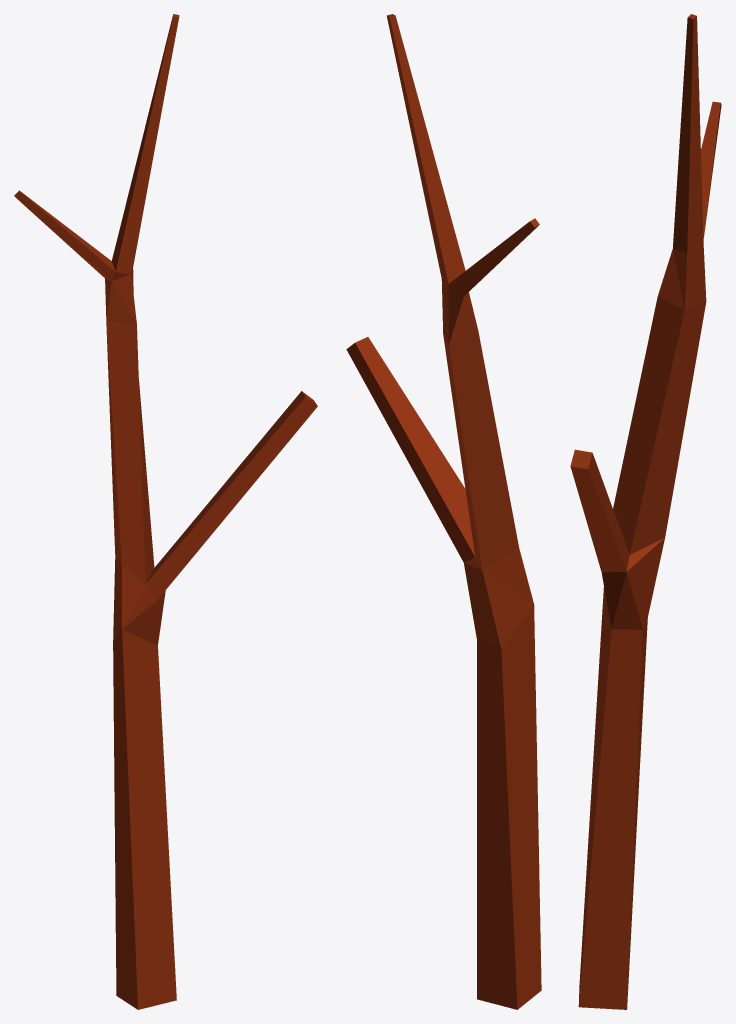
Rendered from branch.obj.
3 views of the same model, side by side, from view 1: azimuth 30°, elevation 25°; view 2: azimuth 150°, elevation 25°; view 3: azimuth 270°, elevation 25° (orthographic). The views are drawn at different scales.
Parts seen in each view (by area): view 1: Tree_Branch_Cube.252; view 2: Tree_Branch_Cube.252; view 3: Tree_Branch_Cube.252.
Boxes of the visible parts, x1,y1,x2,y2 form: Tree_Branch_Cube.252: (14, 14, 317, 1009); Tree_Branch_Cube.252: (346, 14, 541, 1009); Tree_Branch_Cube.252: (570, 14, 721, 1009).
Bounding box in the file's own units: 0.5044 × 1.88 × 0.2526.
